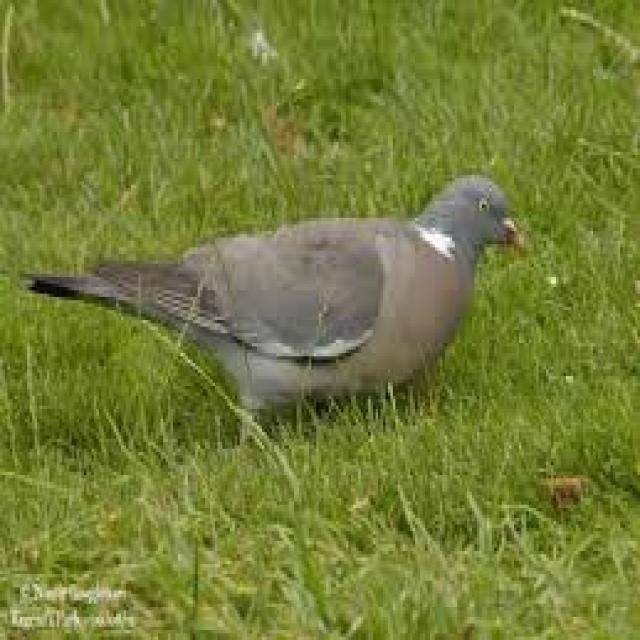pigeon: (23, 128, 530, 496)
